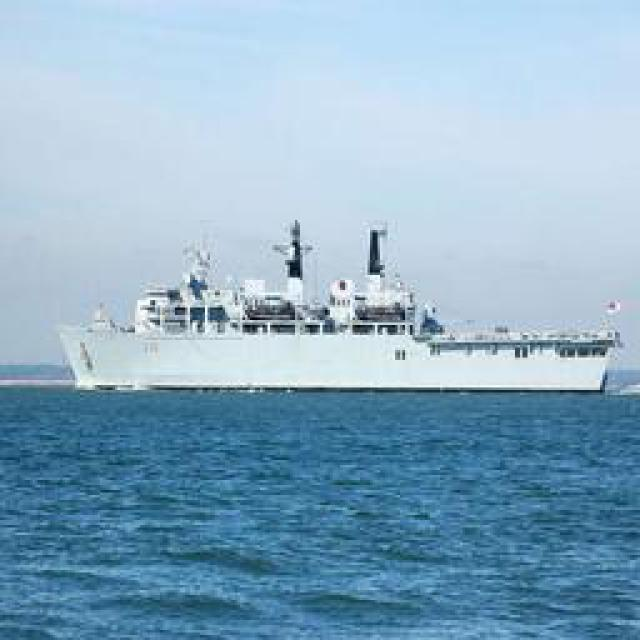Ship: (35, 220, 628, 400)
